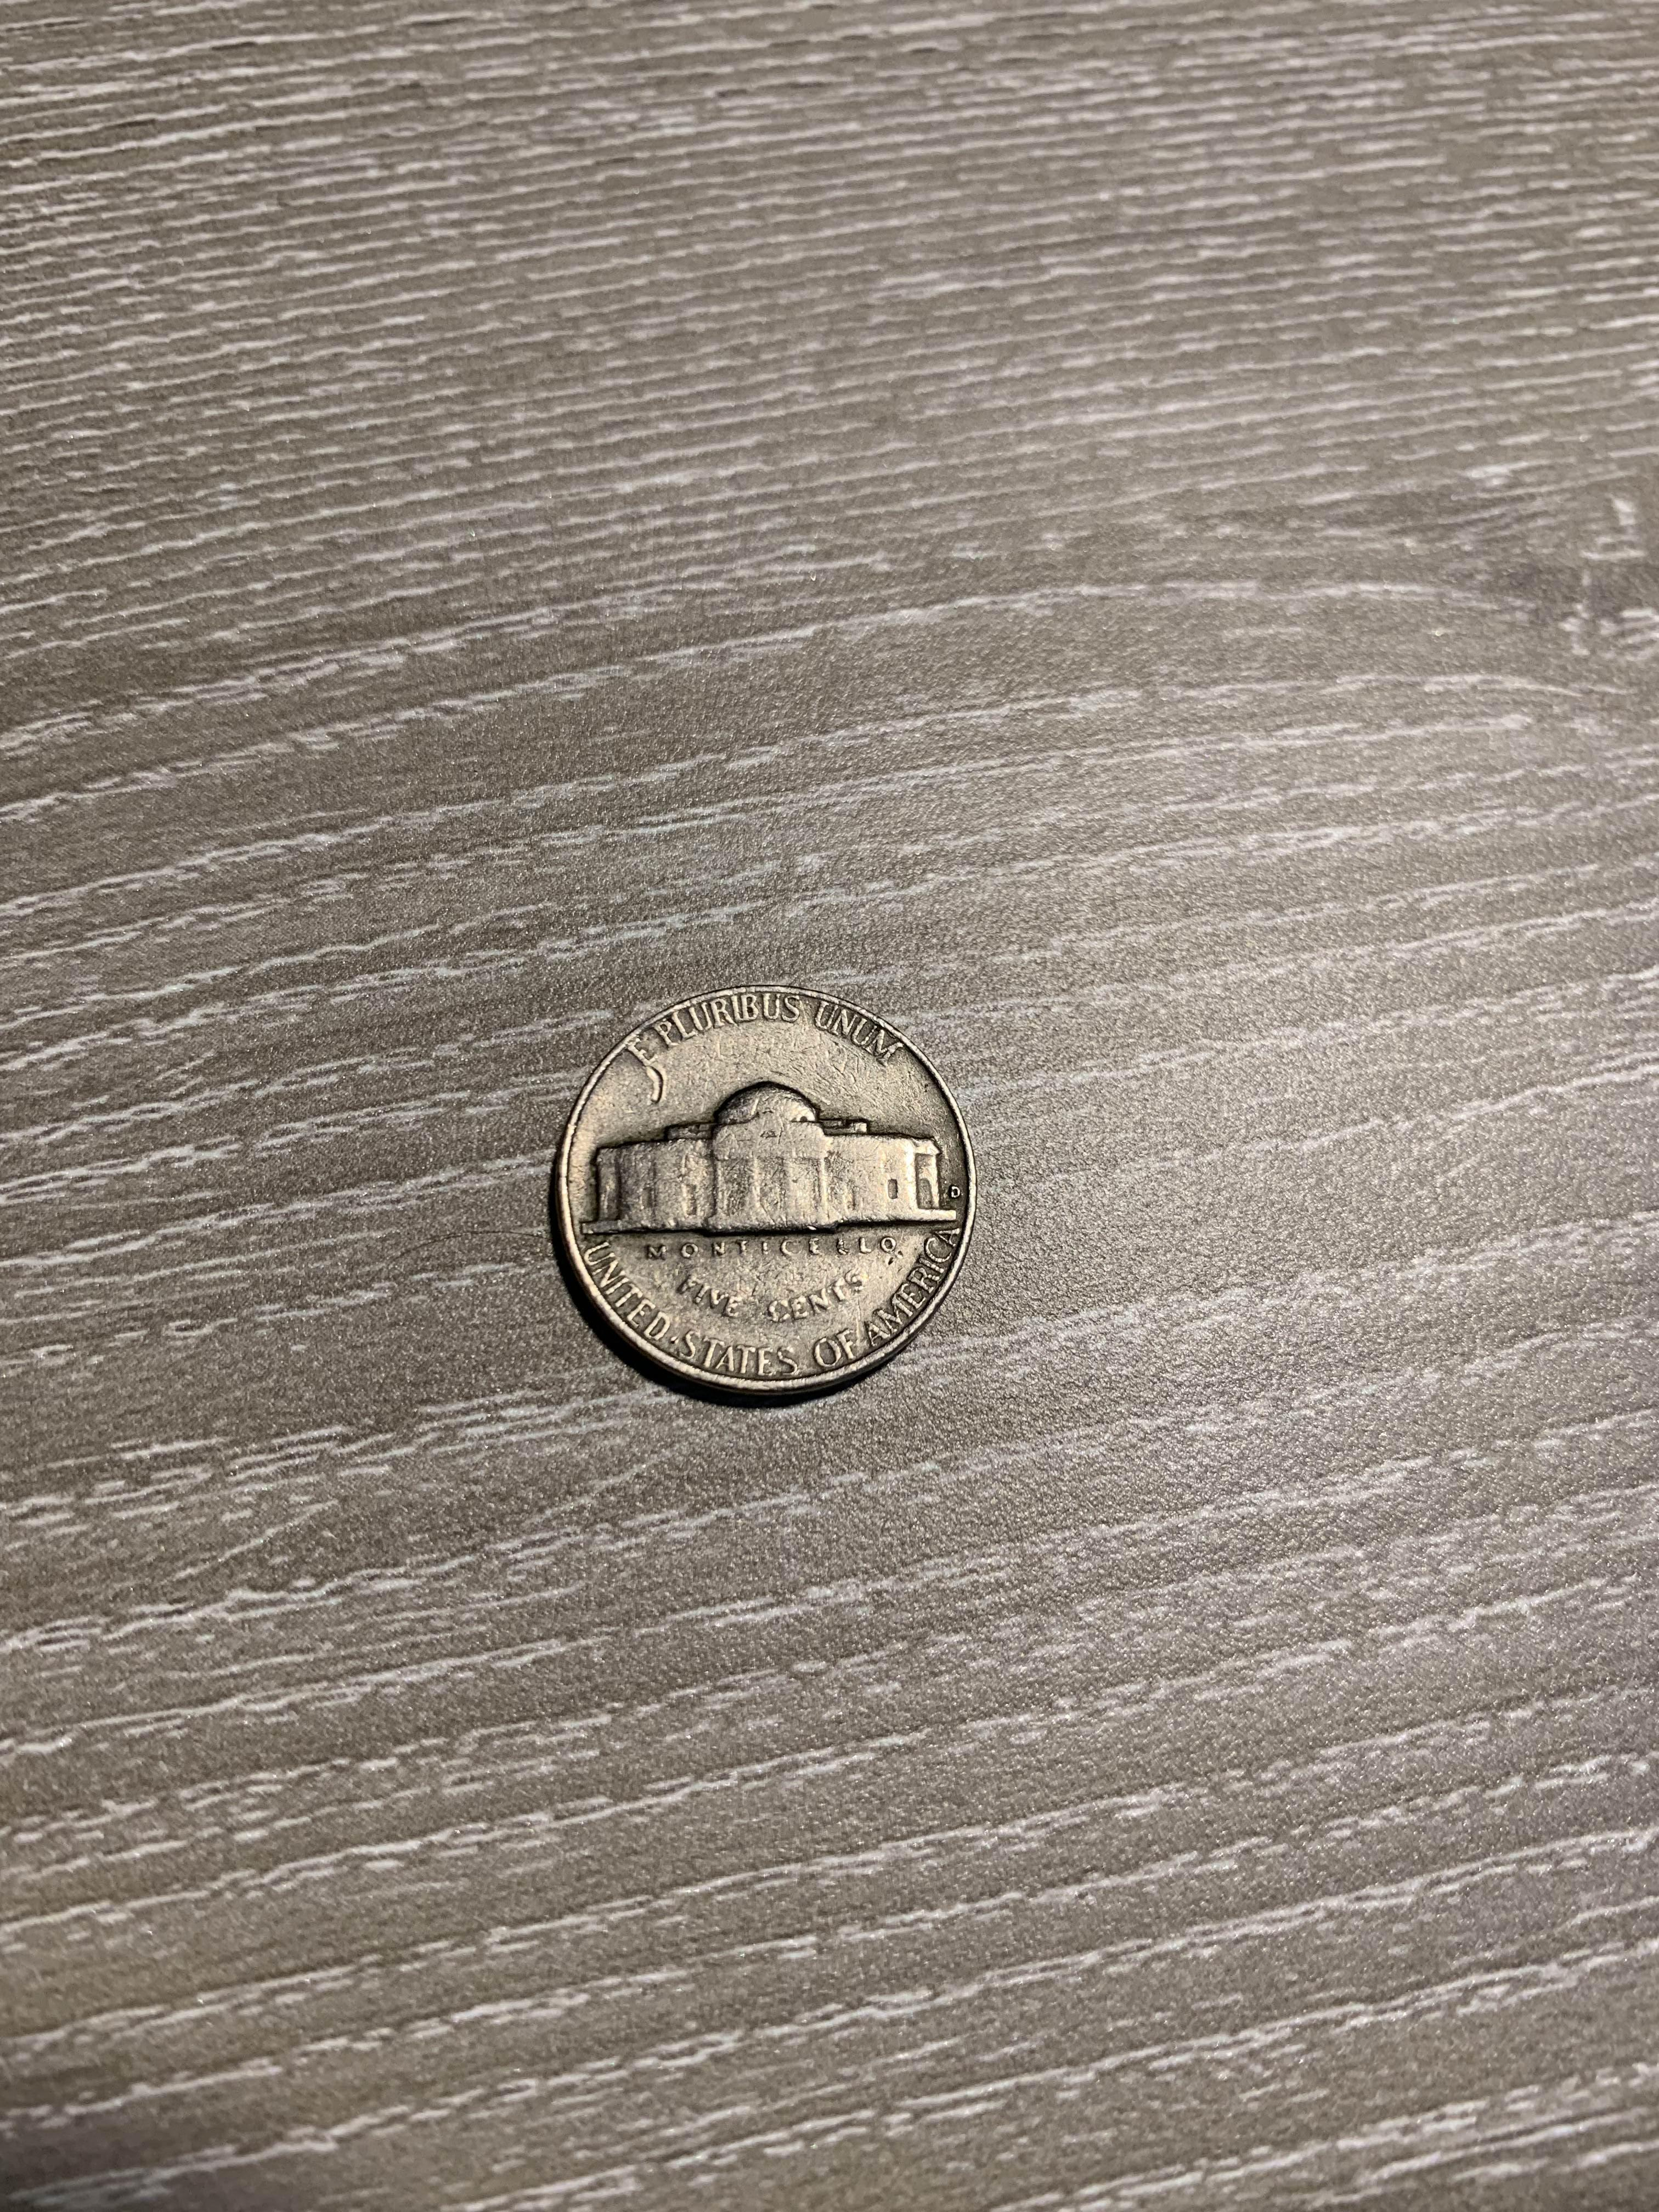Nickel: (540, 979, 985, 1414)
